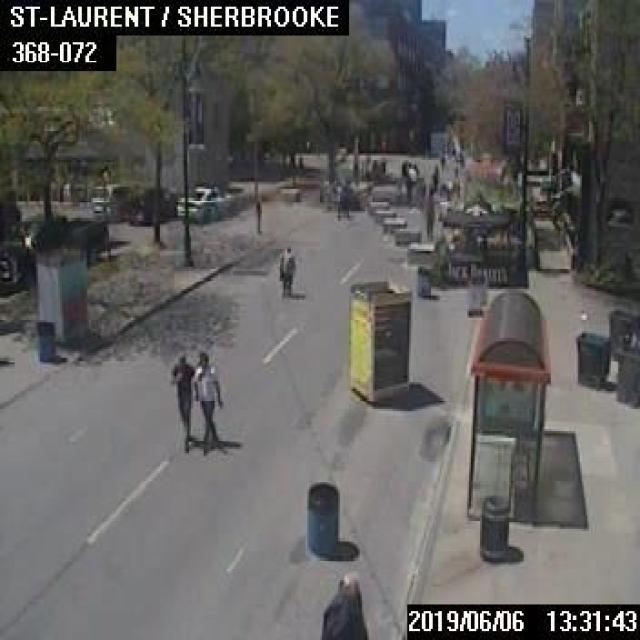pedestrian: (316, 576, 369, 638), (167, 354, 197, 454), (193, 352, 221, 456), (276, 245, 294, 298), (421, 189, 434, 239), (334, 181, 347, 217)
vehicle: (174, 183, 233, 221), (126, 187, 177, 221), (89, 183, 135, 218)
